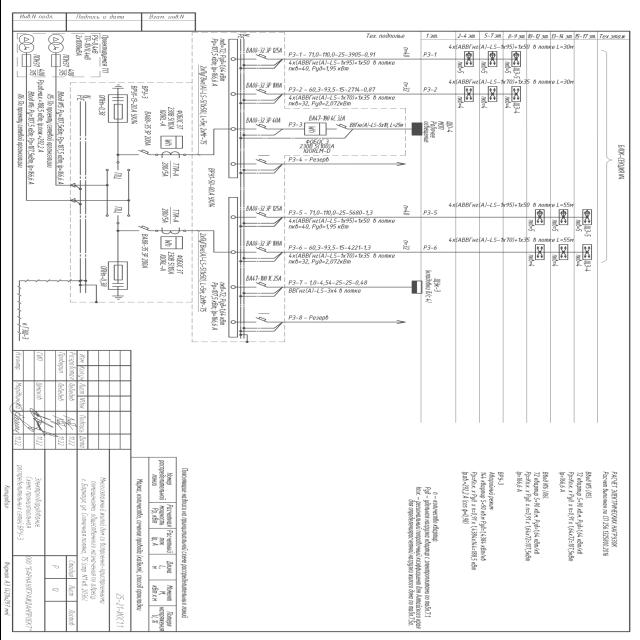-: (158, 106, 184, 130), (158, 252, 184, 276), (140, 111, 152, 147), (159, 160, 181, 178), (128, 85, 137, 126), (158, 206, 178, 224), (139, 233, 148, 270), (111, 171, 123, 179), (111, 206, 123, 214)
QF: (134, 148, 152, 156), (135, 225, 151, 232)
TT: (160, 150, 180, 159), (160, 227, 180, 235)
WH: (158, 135, 184, 149), (158, 236, 182, 250)
switch: (104, 213, 130, 225), (102, 162, 130, 172)
